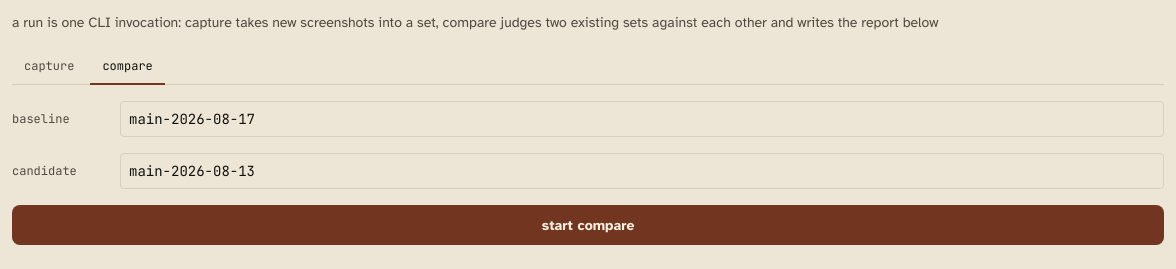
it: the selected tab in the URL › leaves a compare field the reviewer typed alone
Replace the text in the field labelled "baseline" with "main-2026-08-20" at (642, 119), box [120,101,1164,137]
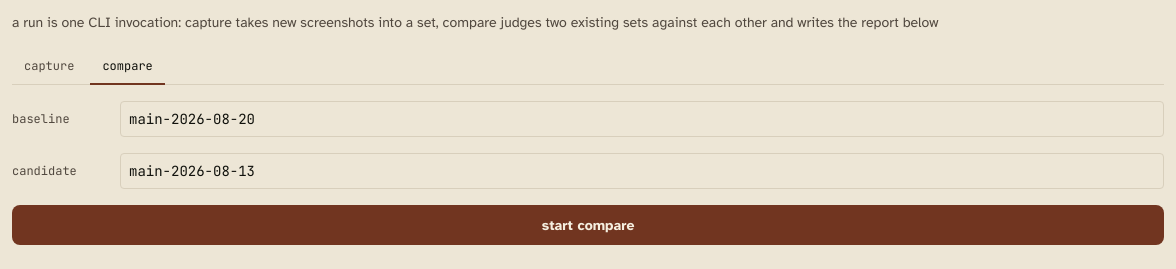
Click the tab "capture" at (49, 67), box [12,49,86,85]
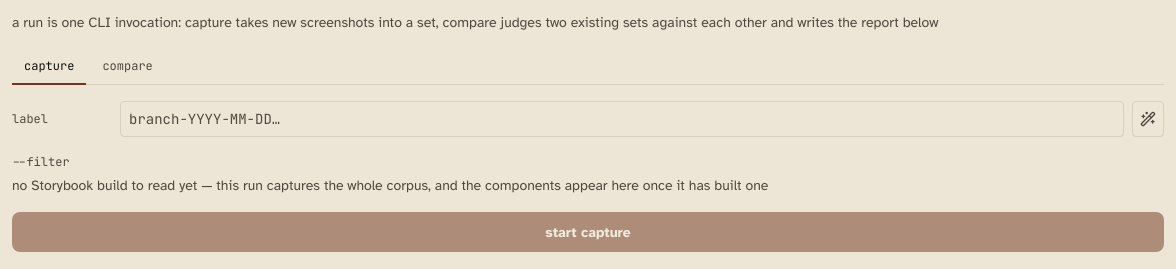
Click the tab "compare" at (128, 67), box [90,49,165,85]
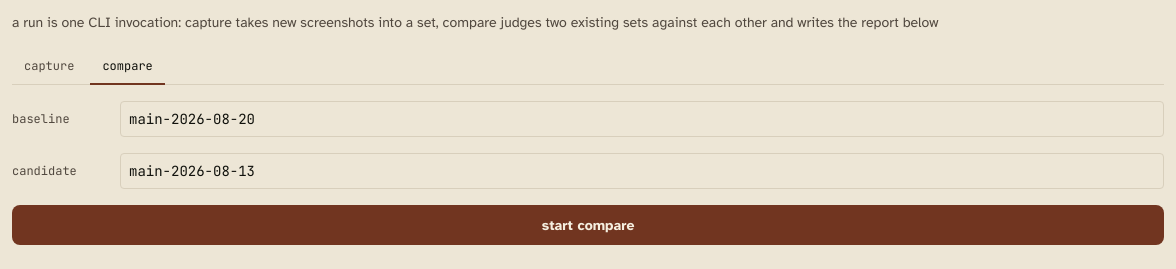
Expected: the field labelled "baseline" holds "main-2026-08-20", [120,101,1164,137]
